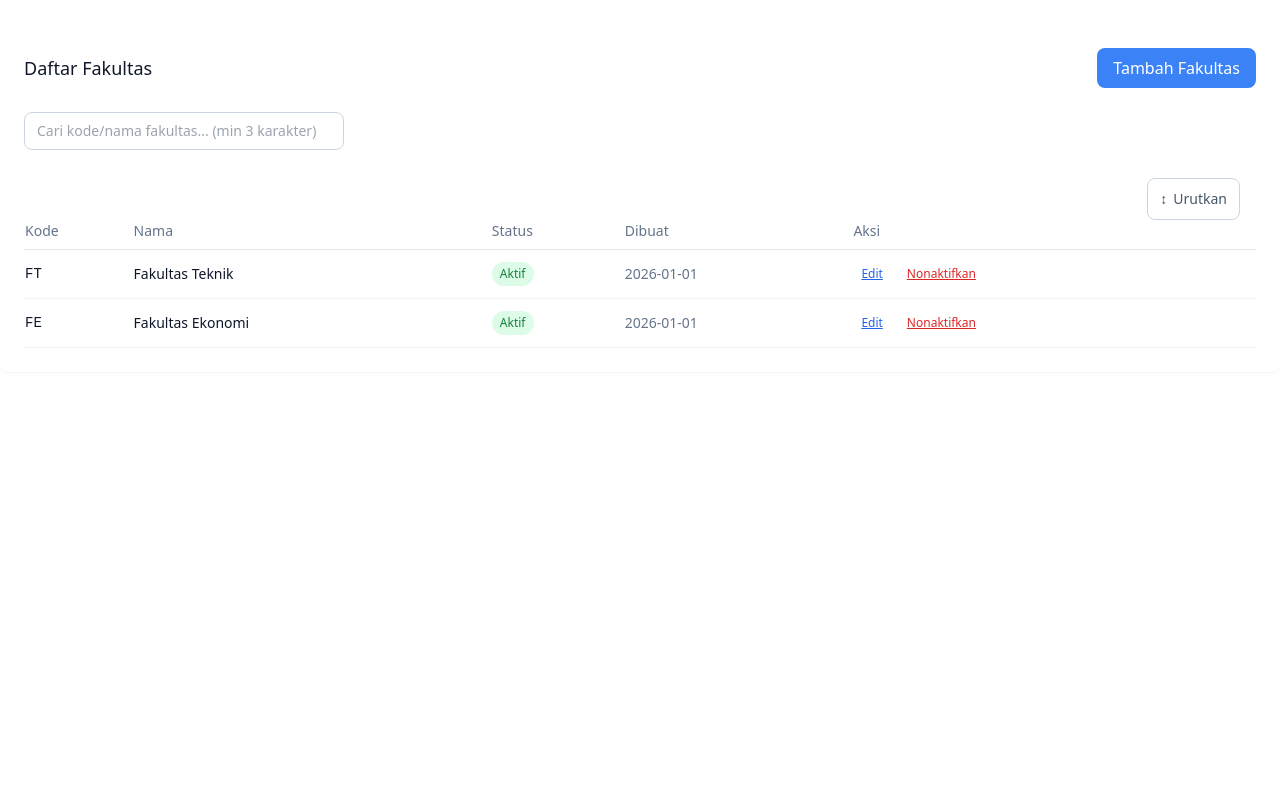
it: AdminMasterPage (Fakultas & Prodi) › tambah fakultas baru → createFaculty dipanggil + list refresh
Expected: the text "Fakultas Teknik" is shown, left=133, top=250, right=491, bottom=298
# Klik Tambah Fakultas
Click the button "Tambah Fakultas" at [1177, 68], box left=1097, top=48, right=1256, bottom=88
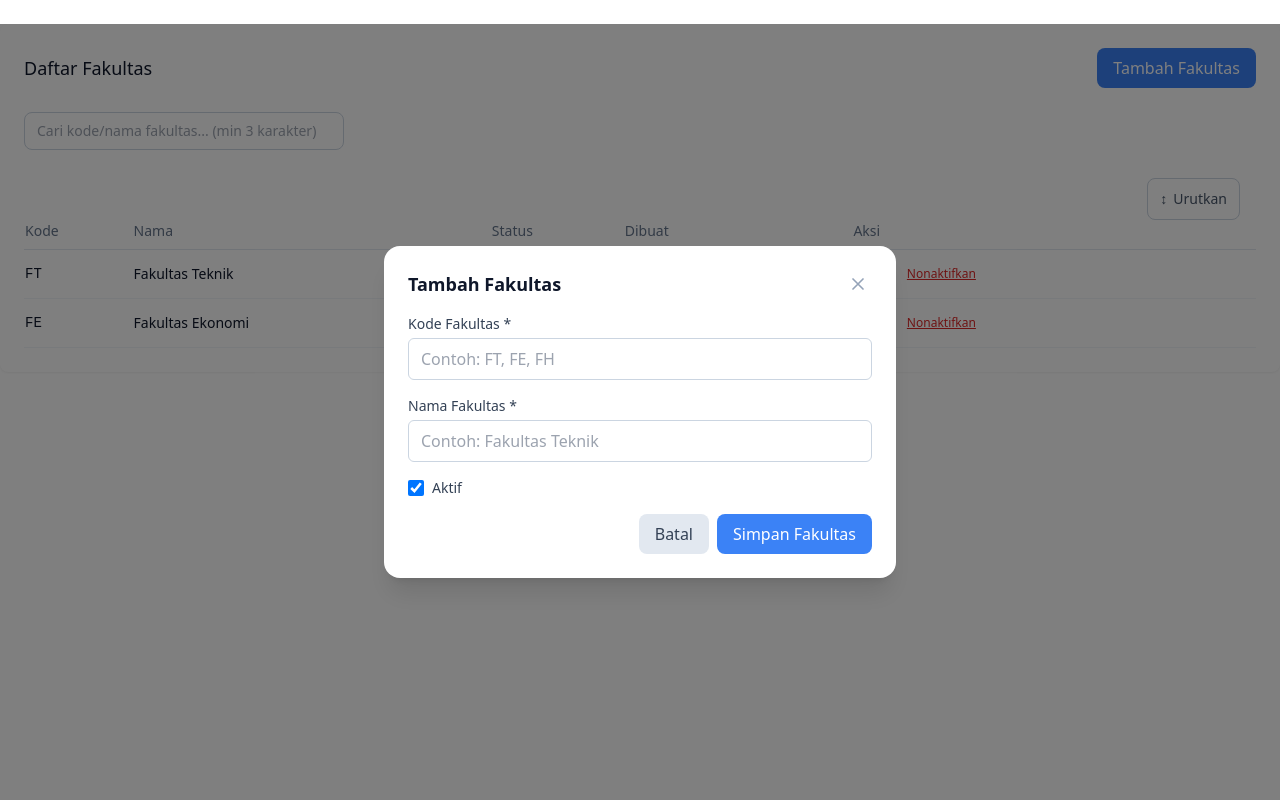
# Isi form - use label text (with asterisk)
Type "FH" into the field labelled "Kode Fakultas *" at [640, 359], box left=408, top=338, right=872, bottom=380
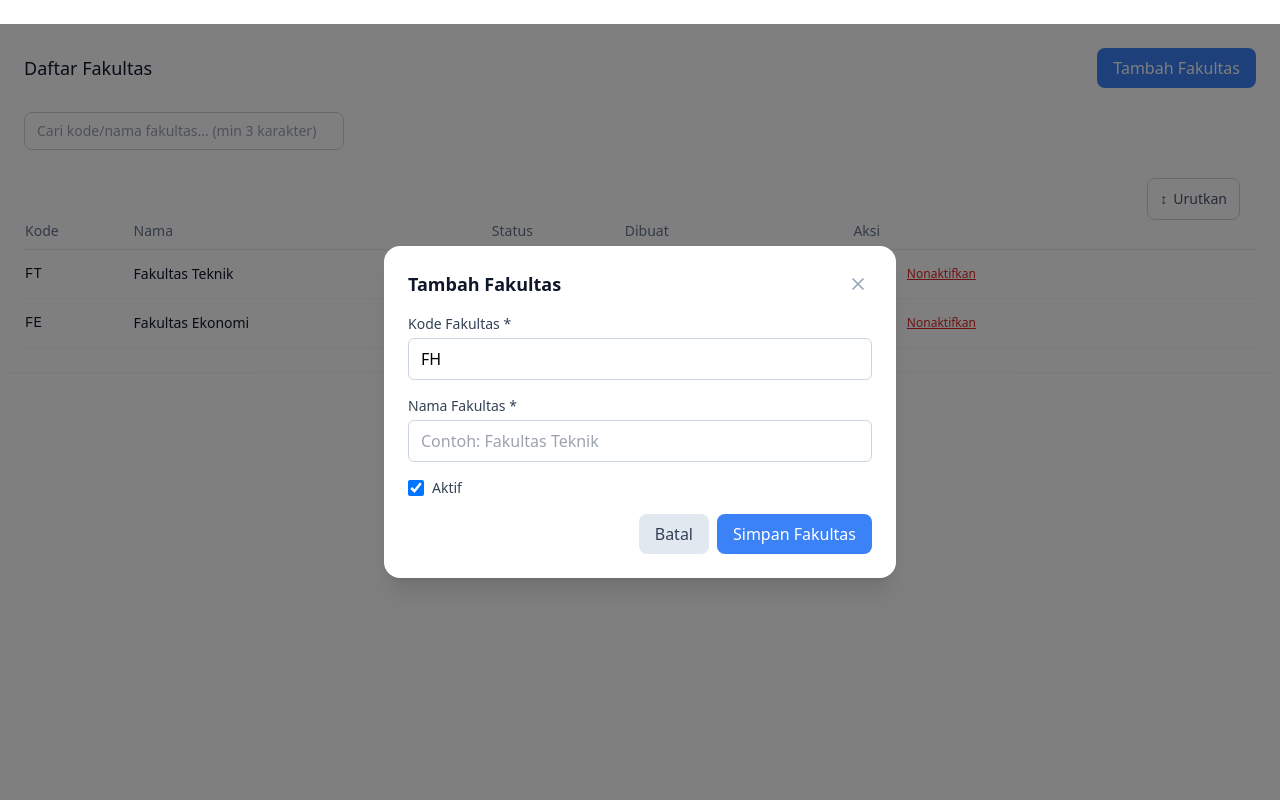
Type "Fakultas Hukum" into the field labelled "Nama Fakultas *" at [640, 441], box left=408, top=420, right=872, bottom=462
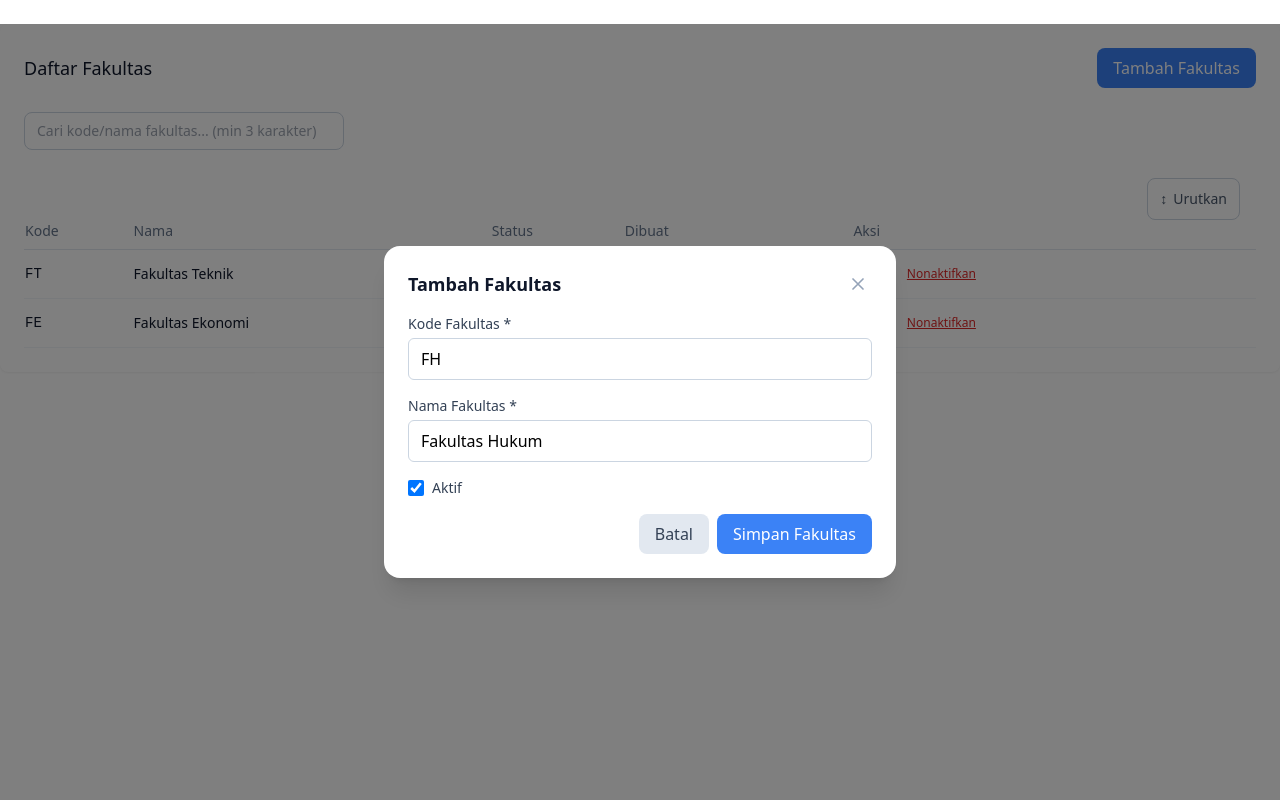
Click the button "Simpan Fakultas" at [794, 534], box left=717, top=514, right=872, bottom=554
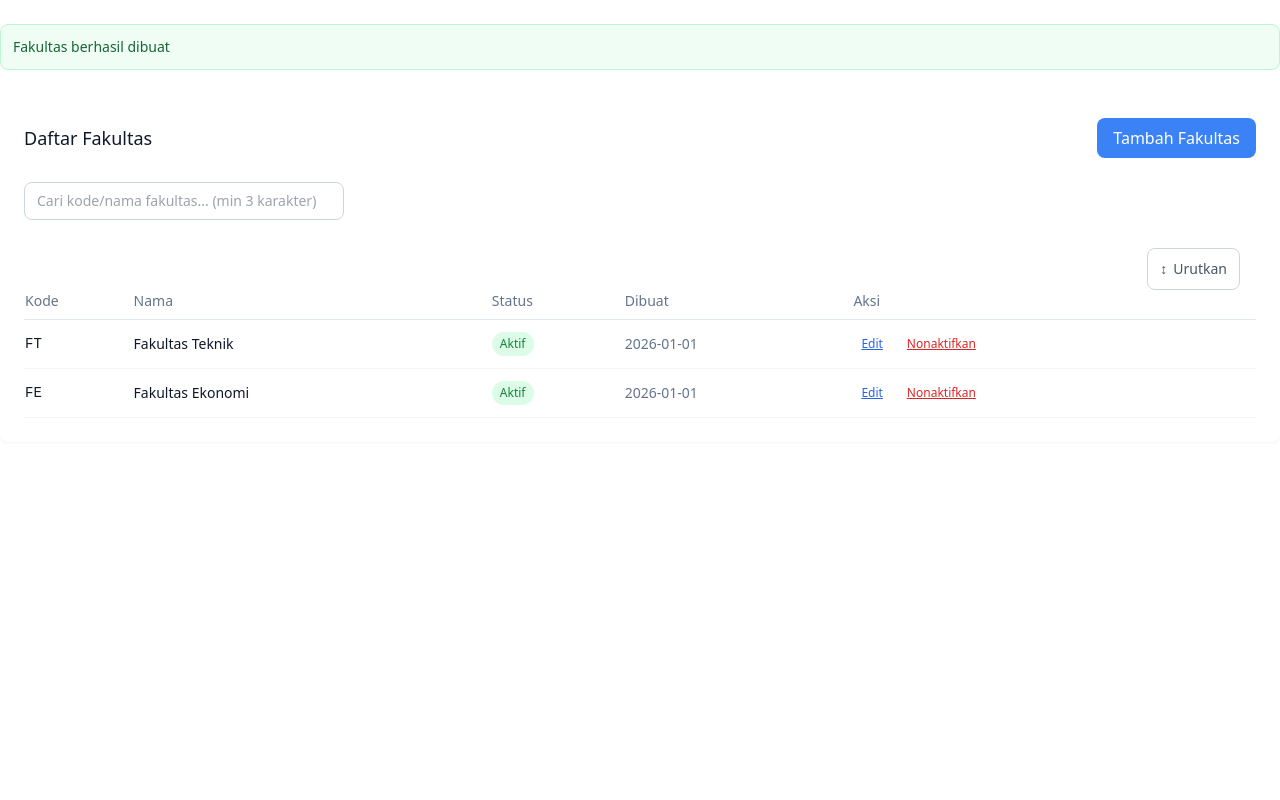
Expected: the text "Fakultas berhasil dibuat" is shown, left=0, top=24, right=1279, bottom=70
